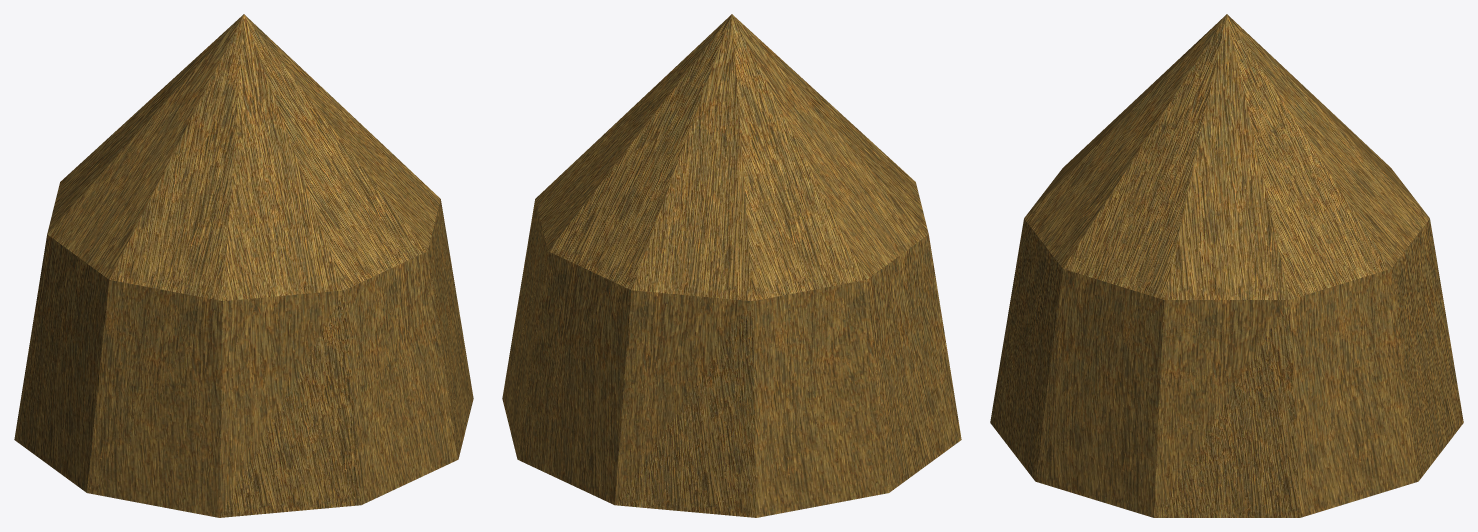
The model's file is haystack_01.glb.
The picture shows the model from 3 angles, left to right: view 1: azimuth 30°, elevation 25°; view 2: azimuth 150°, elevation 25°; view 3: azimuth 270°, elevation 25°; orthographic projection.
Visible parts, largest first — view 1: haystack_01; view 2: haystack_01; view 3: haystack_01.
Part boxes in pixels (x1,y1,x2,y2): haystack_01: (14, 14, 473, 517); haystack_01: (502, 14, 961, 517); haystack_01: (990, 14, 1463, 517).
Size of the model in its own units: 2 by 2 by 2.1.
1 material, 1 textured.
